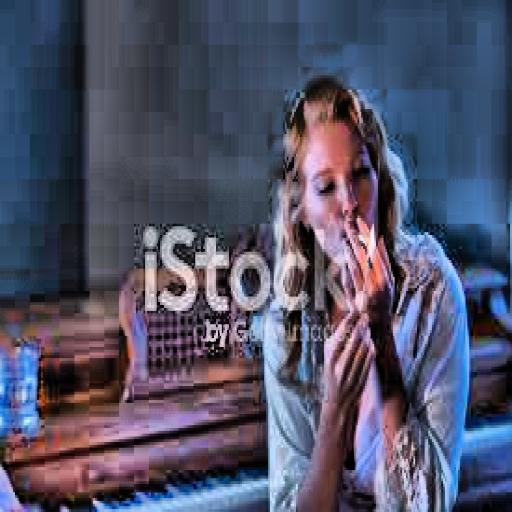fire: (361, 218, 380, 260)
